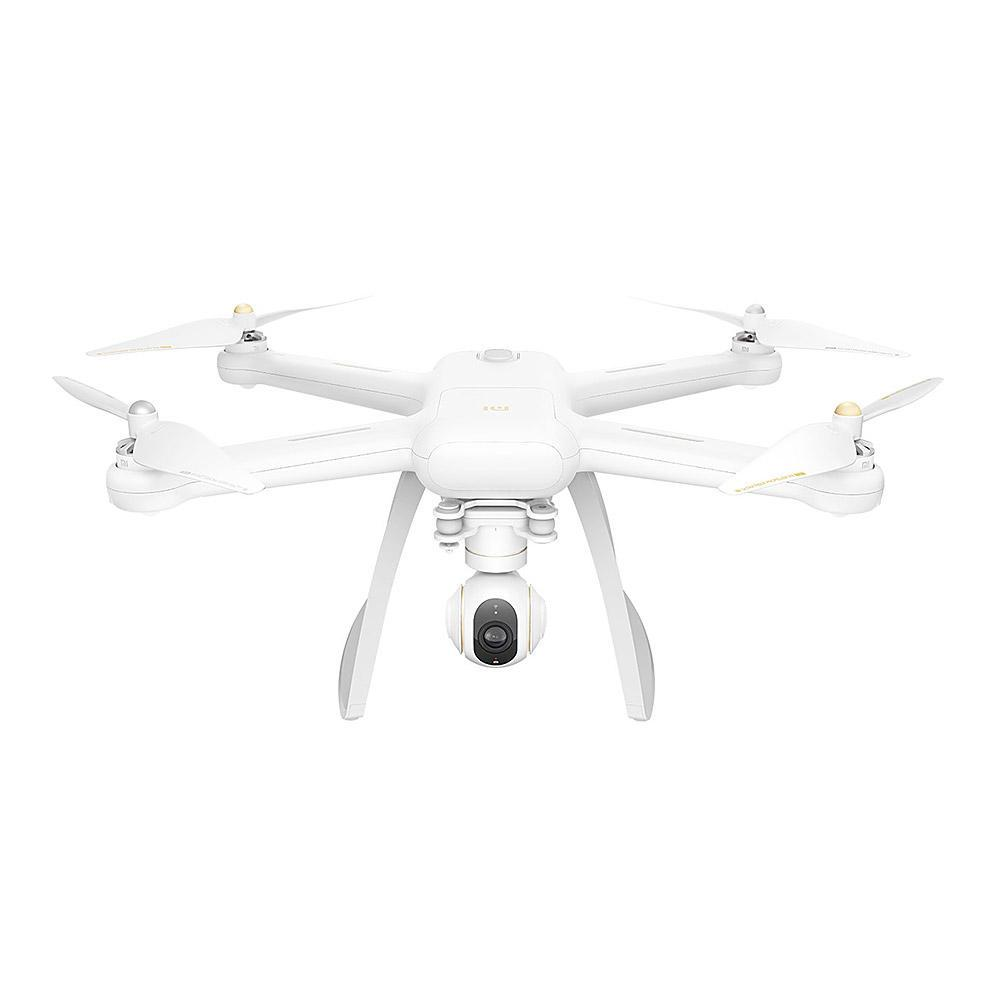drone: (32, 269, 976, 584)
